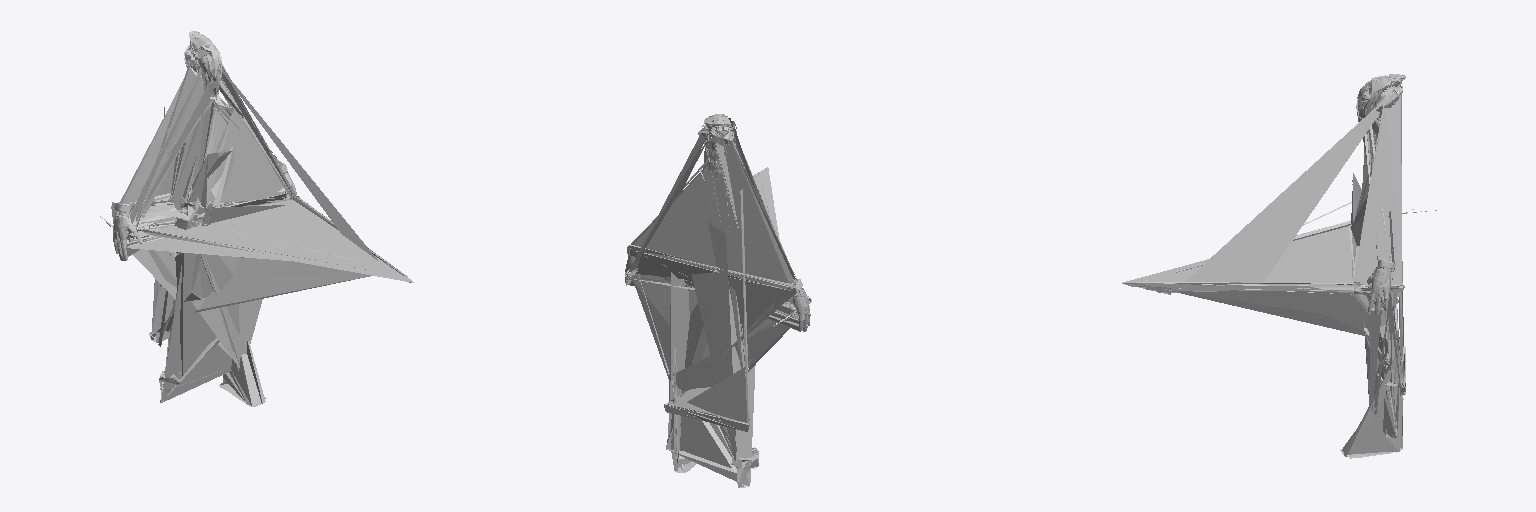
Rendered from zero.obj.
The picture shows the model from 3 angles: view 1: azimuth 30°, elevation 25°; view 2: azimuth 150°, elevation 25°; view 3: azimuth 270°, elevation 25°; orthographic projection.
Parts seen in each view (by area): view 1: Model001_4_Material118_1.0_0.0_0.0, Model001_4_Material151_1.0_0.0_0.0; view 2: Model001_4_Material118_1.0_0.0_0.0, Model001_5_Material139_1.0_0.0_0.0, Model001_4_Material151_1.0_0.0_0.0; view 3: Model001_4_Material118_1.0_0.0_0.0, Model001_4_Material151_1.0_0.0_0.0.
Boxes of the visible parts, <box> form: Model001_4_Material118_1.0_0.0_0.0: <box>100,31,413,406</box>; Model001_4_Material151_1.0_0.0_0.0: <box>111,162,296,260</box>; Model001_4_Material118_1.0_0.0_0.0: <box>625,114,811,487</box>; Model001_5_Material139_1.0_0.0_0.0: <box>625,245,809,330</box>; Model001_4_Material151_1.0_0.0_0.0: <box>625,245,810,331</box>; Model001_4_Material118_1.0_0.0_0.0: <box>1122,74,1436,458</box>; Model001_4_Material151_1.0_0.0_0.0: <box>1367,260,1395,314</box>.
Size of the model in its own units: 0.9448 by 1.81 by 1.45.